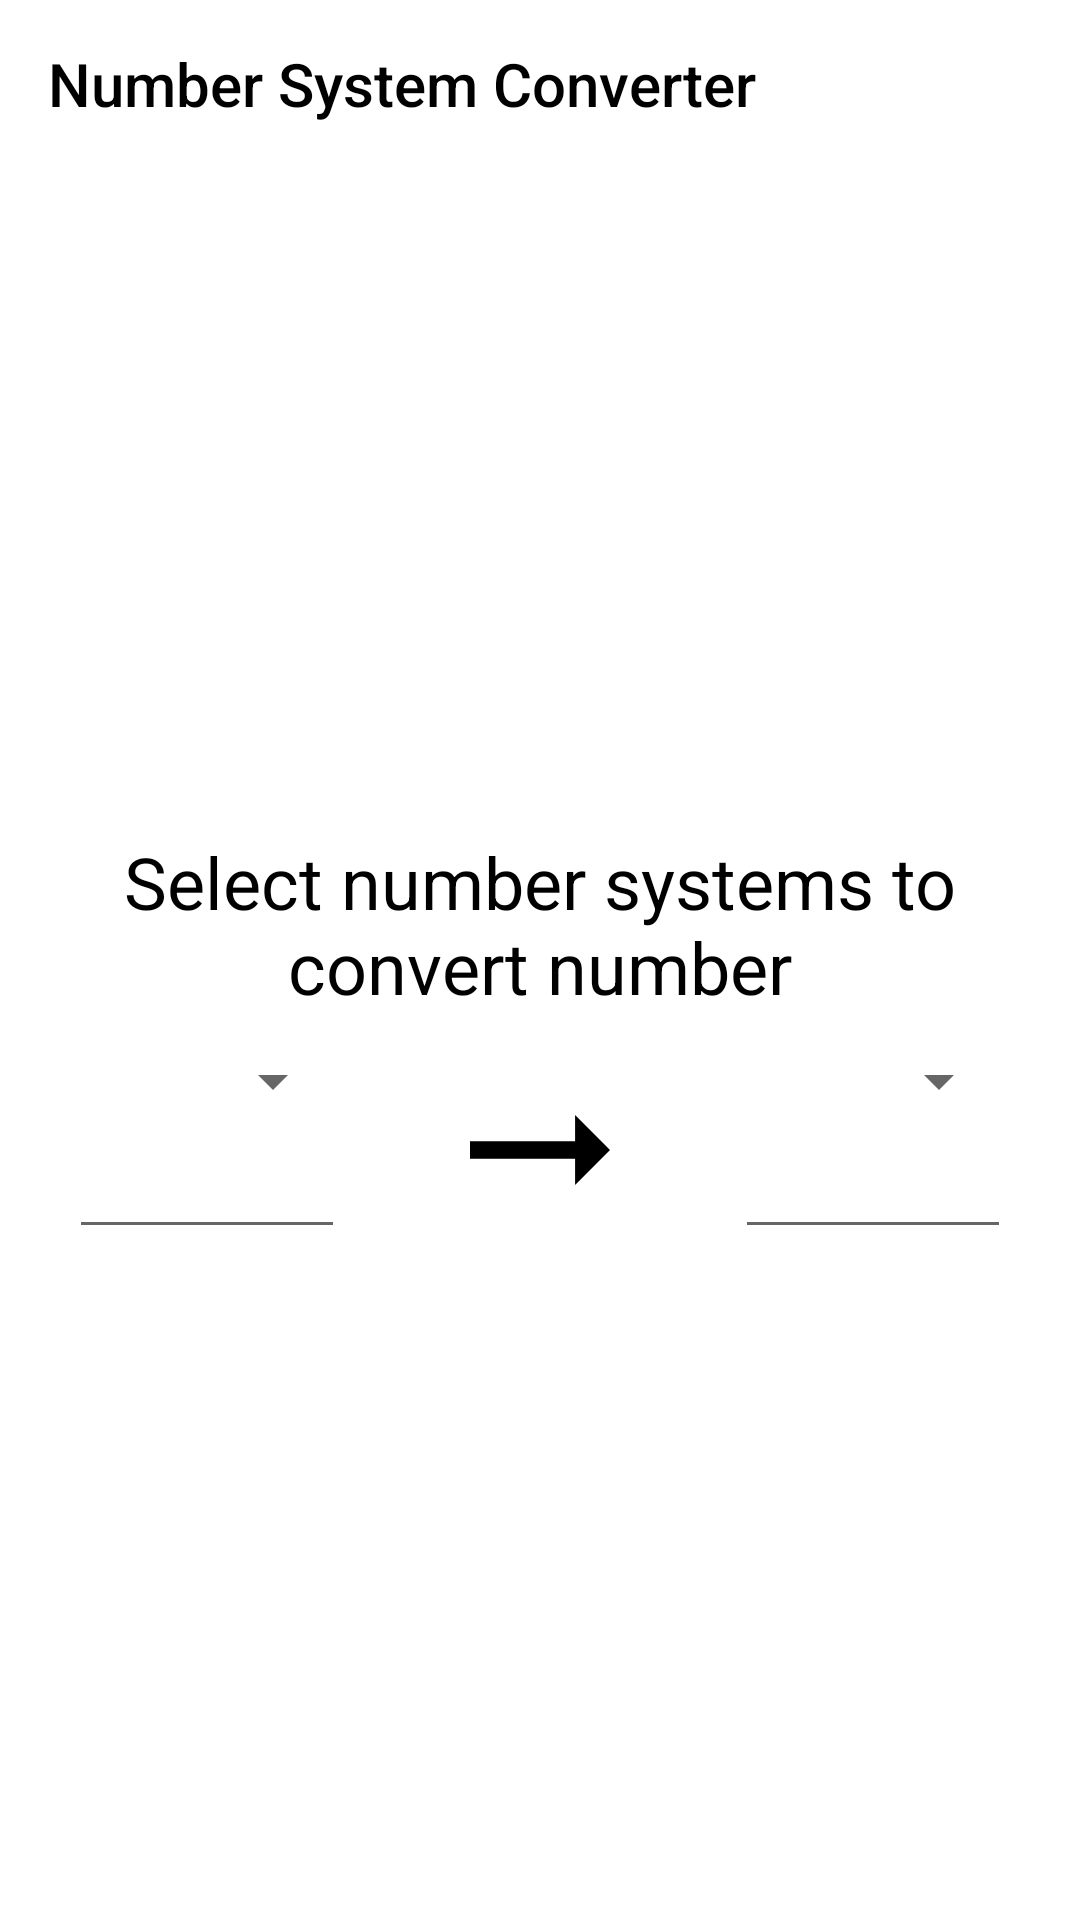

Named icons in this screenshot (1080 × 1920) and their bounding boxes, [left=x1, top=y1, right=x2, bottom=y2]:
arrow right: [left=470, top=1115, right=610, bottom=1185]
